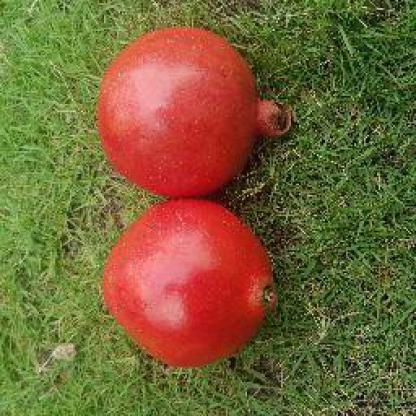pomegranate: (98, 24, 288, 198), (100, 200, 280, 366)
